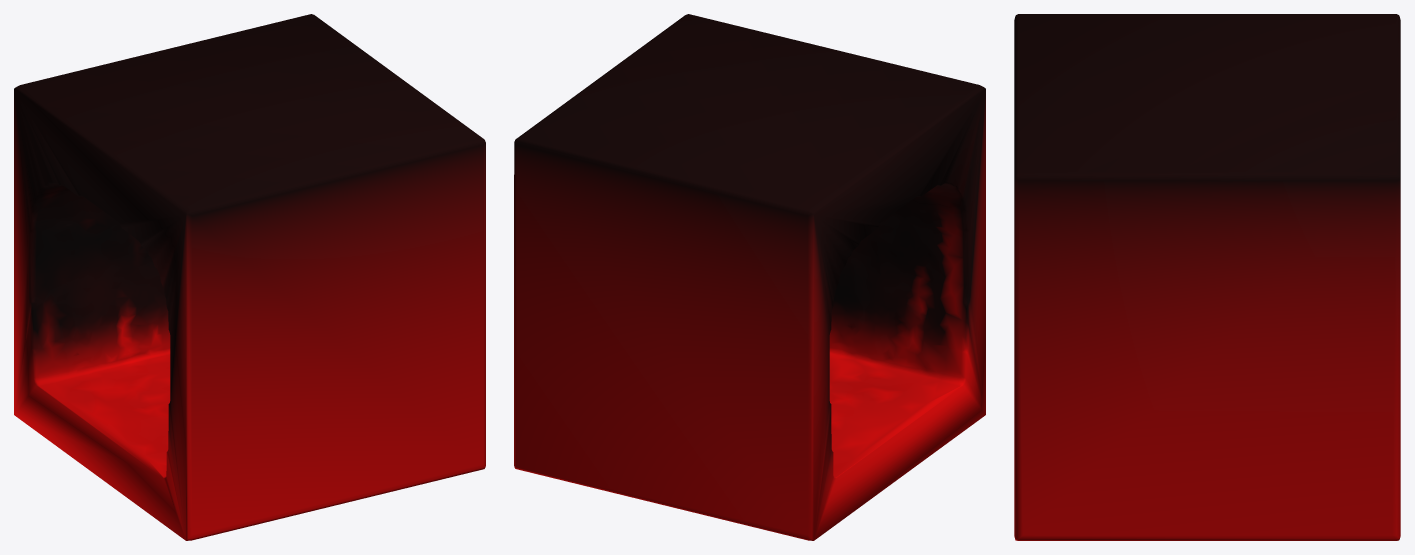
File: SM_Mine_Tunnel_DeadEnd.fbx
The picture shows the model from 3 angles, left to right: view 1: azimuth 30°, elevation 25°; view 2: azimuth 150°, elevation 25°; view 3: azimuth 270°, elevation 25°; orthographic projection. The views are drawn at different scales.
Visible parts, largest first — view 1: SM_Mine_Tunnel_DeadEnd; view 2: SM_Mine_Tunnel_DeadEnd; view 3: SM_Mine_Tunnel_DeadEnd.
Part boxes in pixels (<box>): SM_Mine_Tunnel_DeadEnd: <box>14,14,485,540</box>; SM_Mine_Tunnel_DeadEnd: <box>514,14,985,540</box>; SM_Mine_Tunnel_DeadEnd: <box>1014,14,1400,540</box>.
Size of the model in its own units: 4 by 4.2 by 4.
